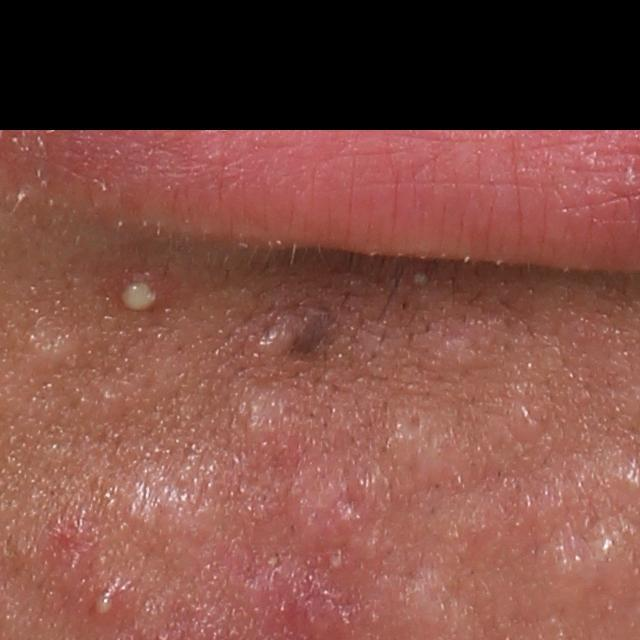hypertrophic_scar: (95, 459, 232, 576), (382, 416, 473, 508), (408, 318, 492, 387), (17, 318, 84, 376), (226, 386, 287, 449)
pustule: (115, 273, 167, 313), (87, 584, 121, 620), (410, 270, 431, 291)
